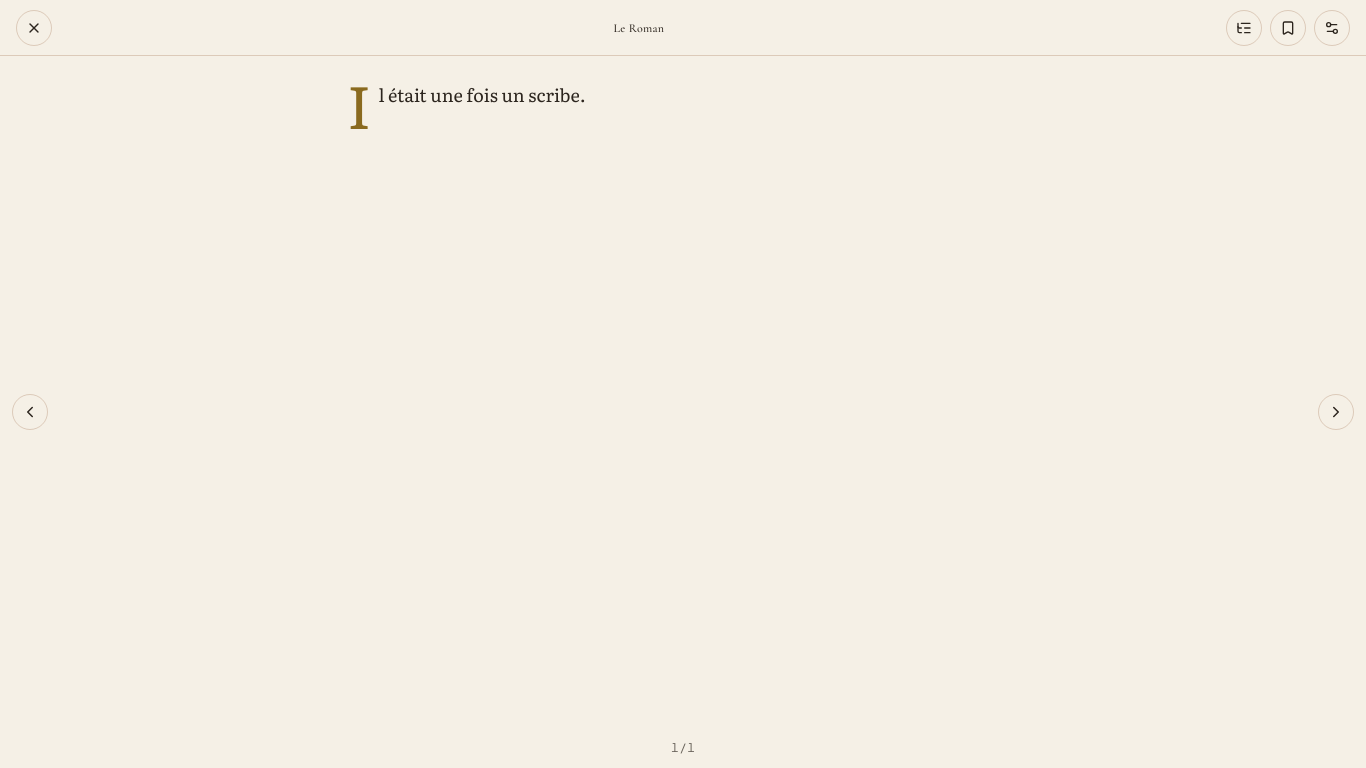
Scenario: WorkshopReaderView › navigates through the interactive table of contents
Expected: the text "Il était une fois un scribe." is shown, [347,80,586,147]
Click the button named "Table des matières" at point(1244, 28), box [1226,10,1262,46]
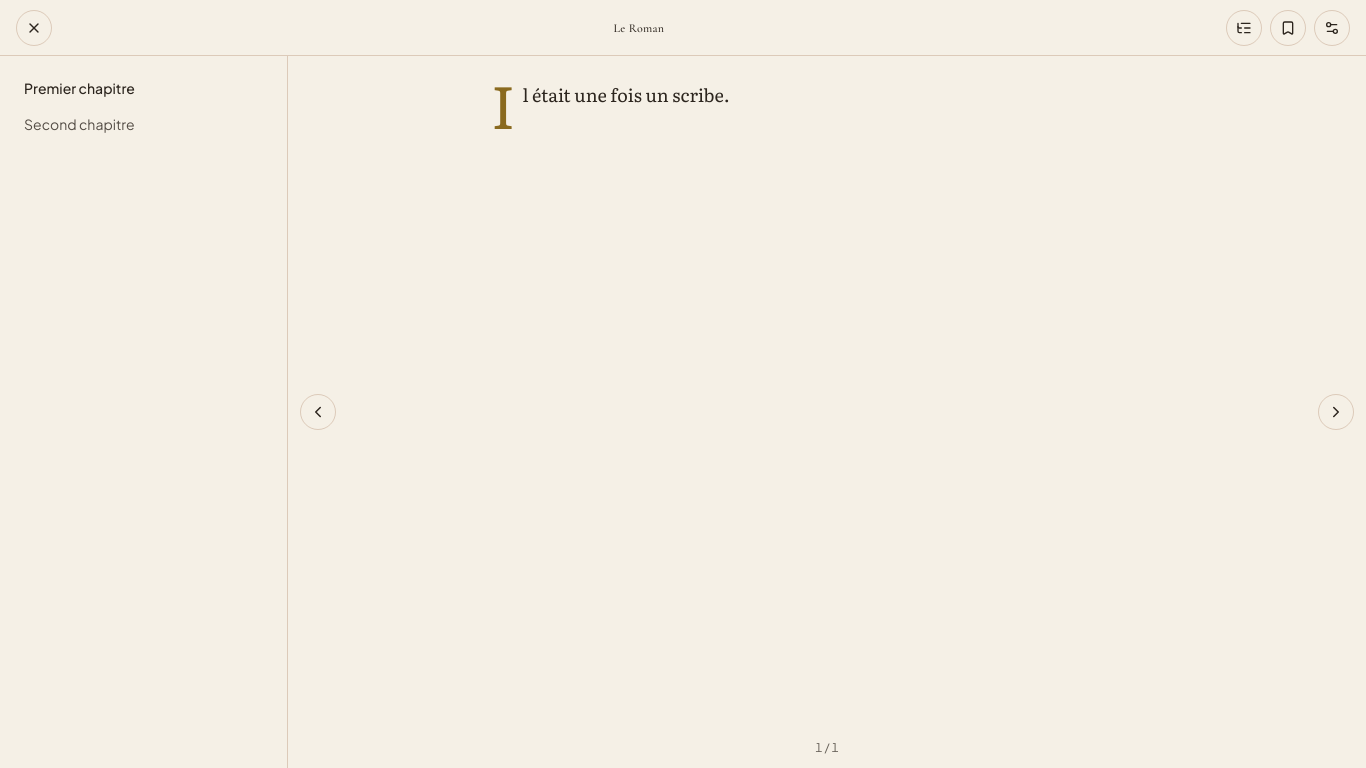
Click the button "Second chapitre" at point(144, 124), box [16,108,271,140]
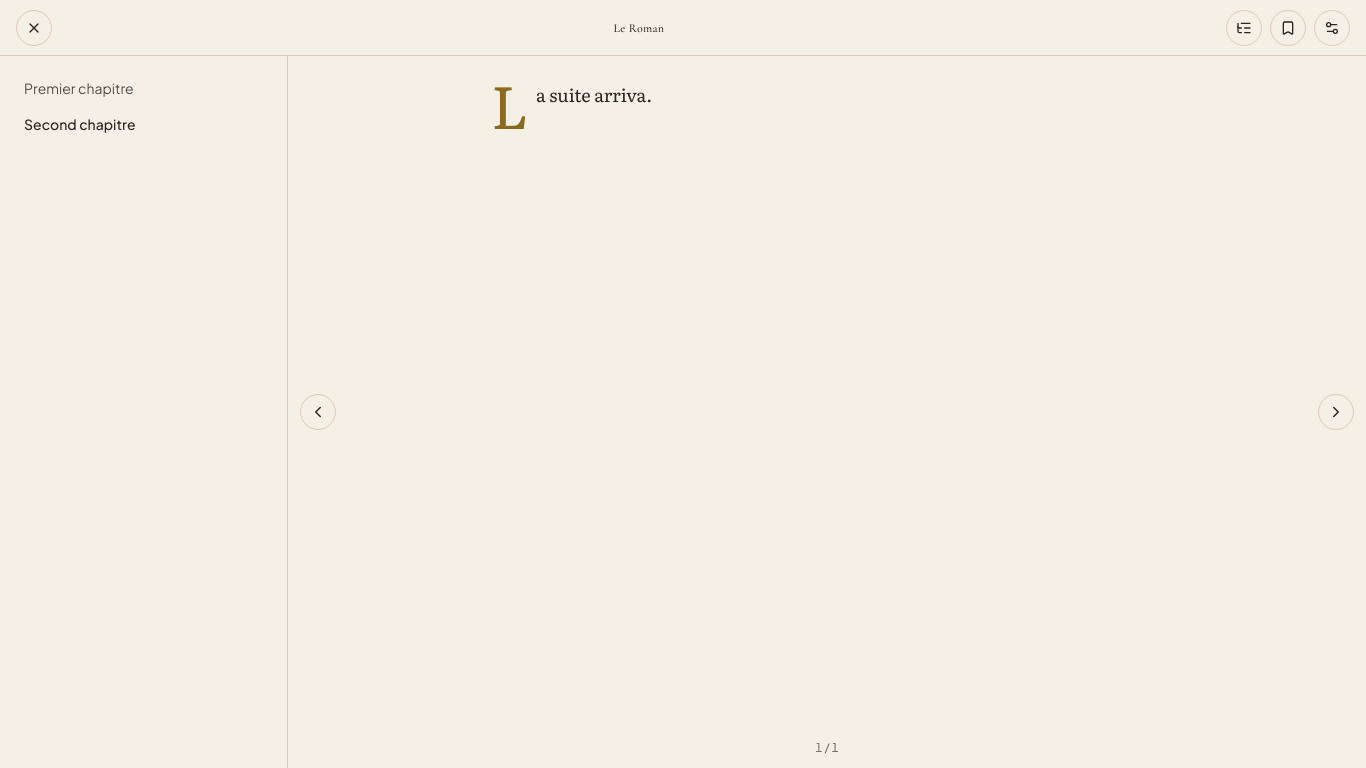
Expected: the text "La suite arriva." is shown, [491,80,652,147]
Expected: the text "Il était une fois un scribe." is gone
